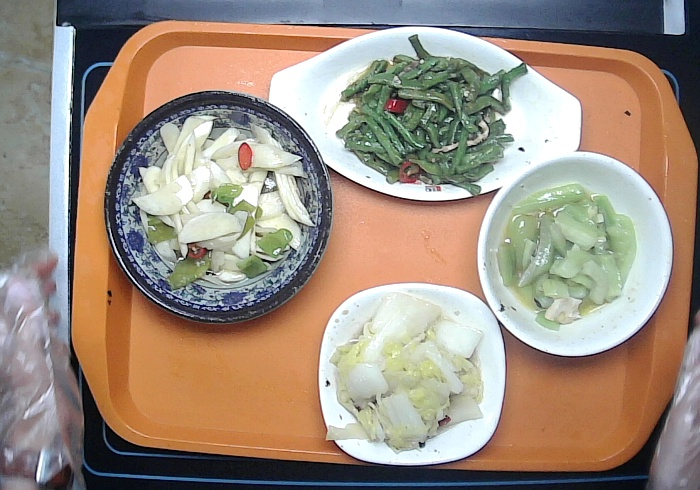ZNLD-Qing_Hua_Wan: (106, 90, 334, 326)
ZNLD-Si_Fang_Wan: (317, 278, 505, 467)
ZNLD-Tang_Wan: (476, 153, 673, 357)
ZNLD-Yu_Pan: (269, 22, 588, 201)
